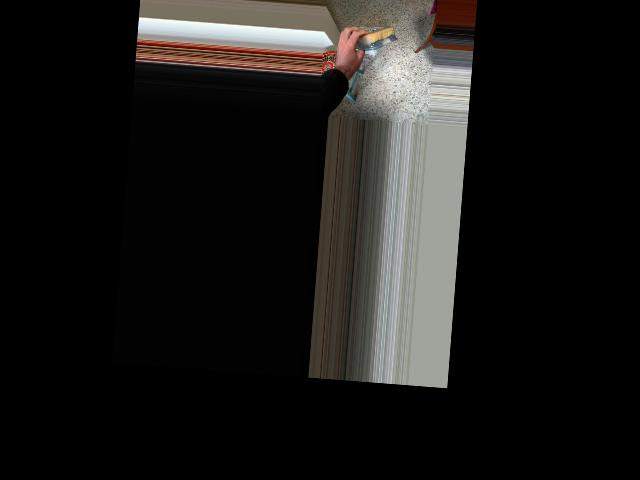cheese: (337, 23, 401, 55)
